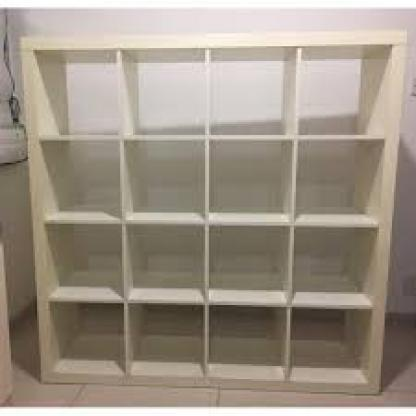lamp: (19, 32, 408, 399)
